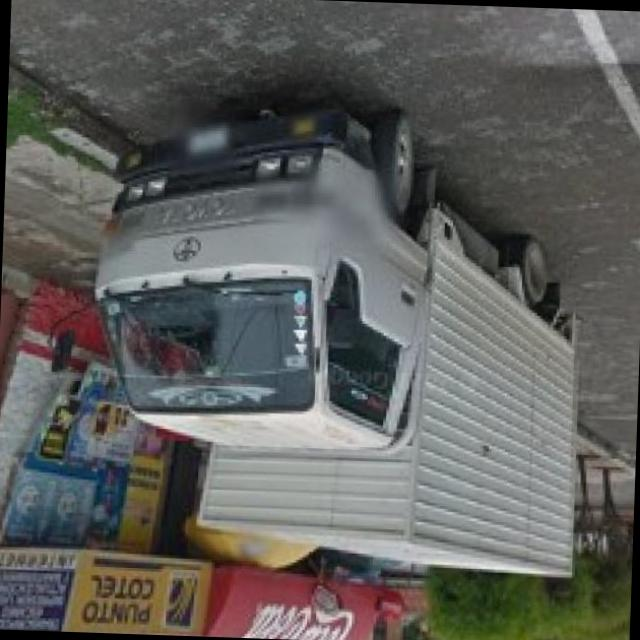car: (88, 105, 590, 588)
